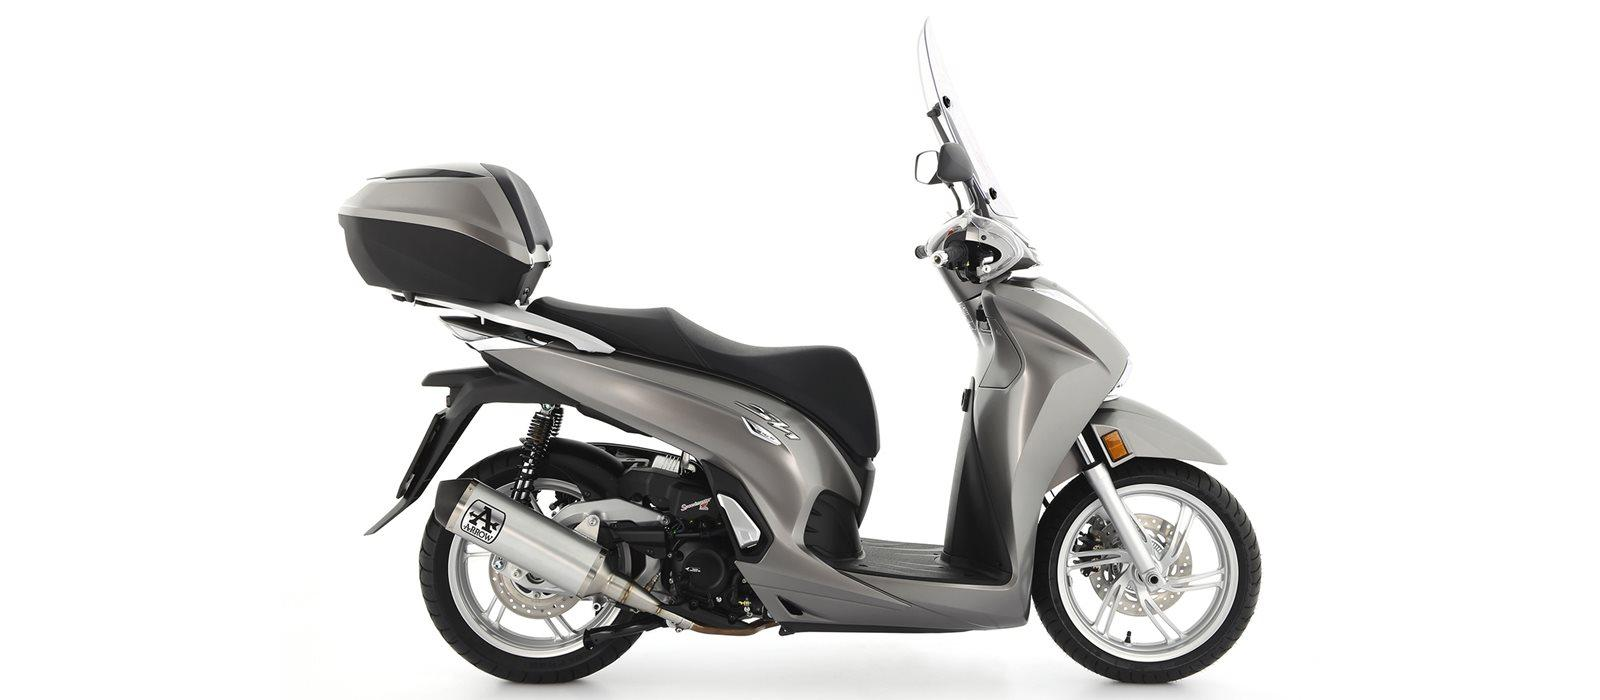engine-chasis: (616, 460, 1005, 637), (510, 403, 565, 507), (583, 617, 667, 651)
exhaust: (435, 478, 780, 636)
frontside: (804, 15, 1229, 628)
handlebar: (914, 142, 1024, 303)
motorbike: (338, 20, 1263, 683)
rearside: (338, 163, 877, 559), (544, 438, 702, 606)
seat: (524, 296, 881, 457)
tank: (944, 376, 1012, 573)
wheel: (1032, 457, 1262, 684), (418, 506, 656, 685), (457, 444, 522, 497)
